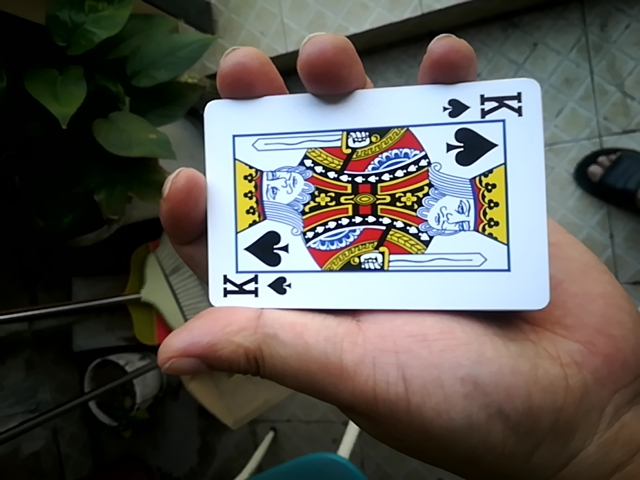ht k: (193, 79, 554, 315)
